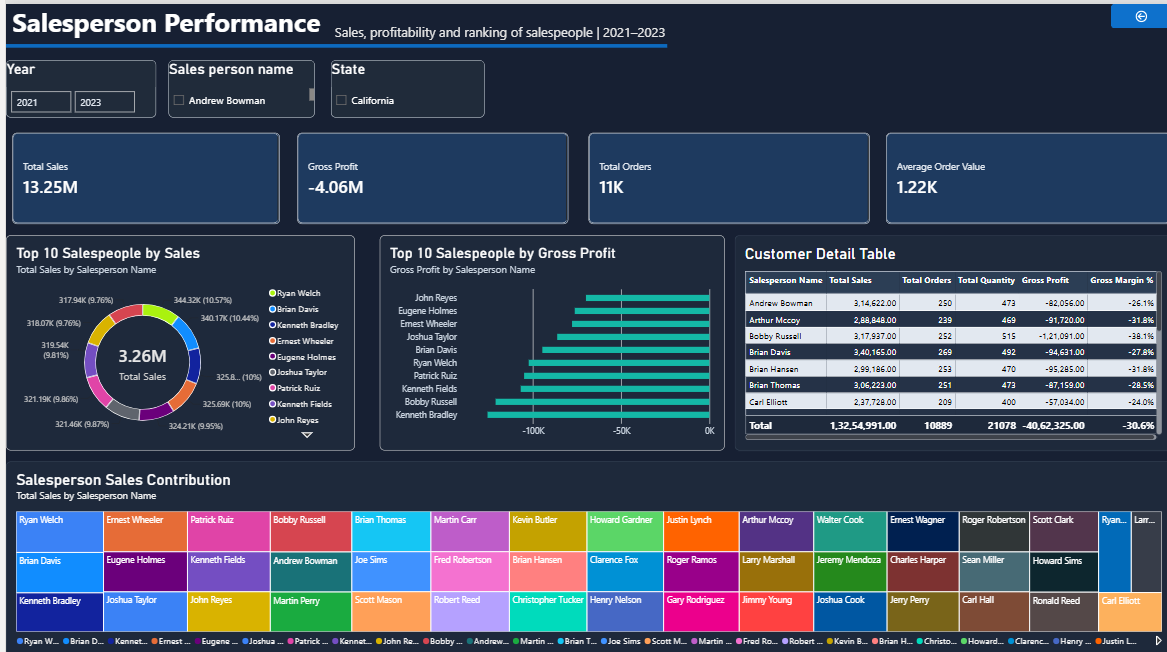

What the dashboard file says about the page in this screenshot:
{"tool":"powerbi","page":{"name":"Salesperson Performance","canvas":[1920,1080],"ordinal":4},"visuals":[{"type":"textbox","box":[10.3,0,763.6,65.9],"z":0},{"type":"textbox","box":[541.3,30.9,763.6,47.3],"z":1000},{"type":"shape","box":[0,16.5,1088.9,105],"z":2000},{"type":"slicer","title":"Year","fields":{"Values":["Dim_Date.Year"]},"box":[0,92.6,247,94.7],"z":3000},{"type":"slicer","title":"Sales person name","fields":{"Values":["Salespeople_Data.Salesperson Name"]},"box":[267.6,92.6,240.8,94.7],"z":4000},{"type":"slicer","title":"State","fields":{"Values":["Location_Data.State"]},"box":[535.2,92.6,253.2,94.7],"z":5000},{"type":"cardVisual","fields":{"Data":["Fact_Sales.Total Sales"]},"box":[10.3,212,440.5,150.3],"z":6000},{"type":"cardVisual","fields":{"Data":["Fact_Sales.Gross Profit"]},"box":[479.6,212,446.7,150.3],"z":7000},{"type":"cardVisual","fields":{"Data":["Fact_Sales.Total Orders"]},"box":[959.2,212,463.1,150.3],"z":8000},{"type":"cardVisual","fields":{"Data":["Fact_Sales.Average Order Value"]},"box":[1449.1,212,471.4,150.3],"z":9000},{"type":"donutChart","title":"Top 10 Salespeople by Sales","fields":{"Category":["Salespeople_Data.Salesperson Name"],"Y":["Fact_Sales.Total Sales"]},"box":[0,380.8,574.3,354],"z":10000},{"type":"clusteredBarChart","title":"Top 10 Salespeople by Gross Profit","fields":{"Category":["Salespeople_Data.Salesperson Name"],"Y":["Fact_Sales.Gross Profit"]},"box":[615.4,380.8,568.1,354],"z":11000},{"type":"treemap","title":"Salesperson Sales Contribution","fields":{"Group":["Salespeople_Data.Salesperson Name"],"Values":["Fact_Sales.Total Sales"]},"box":[0,753.3,1920.4,327.3],"z":12000},{"type":"tableEx","title":"Customer Detail Table","fields":{"Values":["Salespeople_Data.Salesperson Name","Fact_Sales.Total Sales","Fact_Sales.Total Orders","Fact_Sales.Total Quantity","Fact_Sales.Gross Profit","Fact_Sales.Gross Margin %"]},"box":[1200,380.8,720.4,354],"z":13000},{"type":"actionButton","box":[1819.6,0,100,40],"z":14000}]}

Visuals, with their boxes in screenshot pixels (x1, y1, x2, y2), scaled from the page's 1920x1080 canvas onto the 1167x652 screenshot:
textbox: x1=6, y1=0, x2=470, y2=40
textbox: x1=329, y1=19, x2=793, y2=47
shape: x1=0, y1=10, x2=662, y2=73
"Year" slicer: x1=0, y1=56, x2=150, y2=113
"Sales person name" slicer: x1=163, y1=56, x2=309, y2=113
"State" slicer: x1=325, y1=56, x2=479, y2=113
cardVisual - Fact_Sales.Total Sales: x1=6, y1=128, x2=274, y2=219
cardVisual - Fact_Sales.Gross Profit: x1=292, y1=128, x2=563, y2=219
cardVisual - Fact_Sales.Total Orders: x1=583, y1=128, x2=864, y2=219
cardVisual - Fact_Sales.Average Order Value: x1=881, y1=128, x2=1166, y2=219
"Top 10 Salespeople by Sales" donutChart: x1=0, y1=230, x2=349, y2=444
"Top 10 Salespeople by Gross Profit" clusteredBarChart: x1=374, y1=230, x2=719, y2=444
"Salesperson Sales Contribution" treemap: x1=0, y1=455, x2=1166, y2=651
"Customer Detail Table" tableEx: x1=729, y1=230, x2=1166, y2=444
actionButton: x1=1106, y1=0, x2=1166, y2=24
